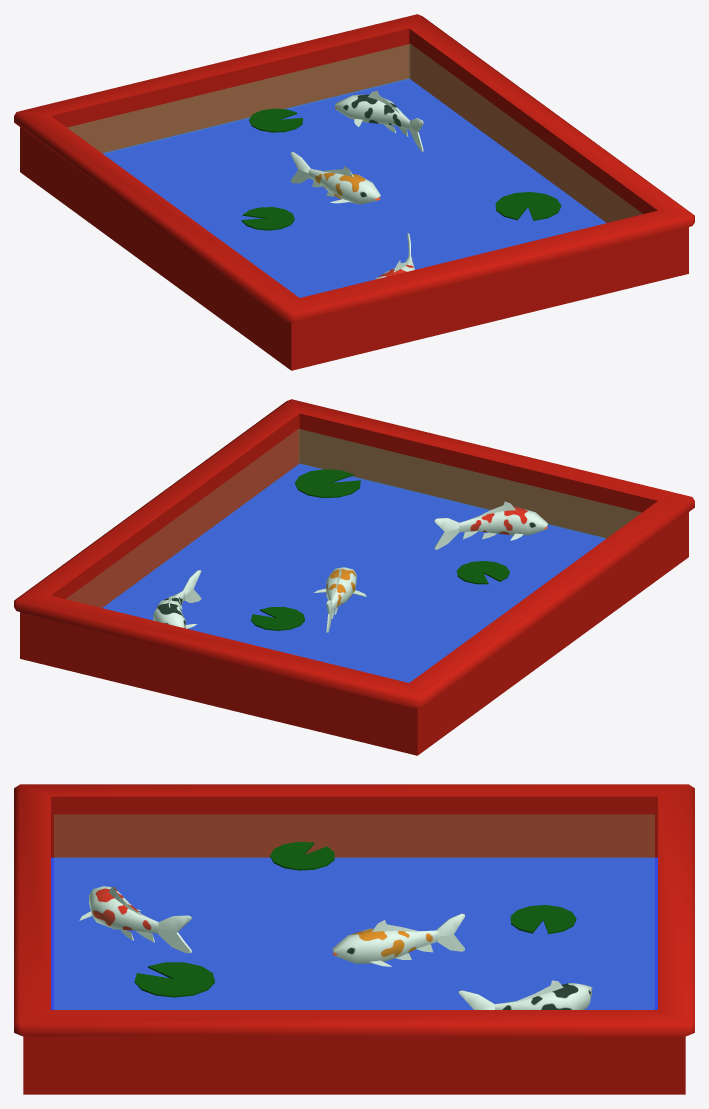
The model's file is be ca Koi.FBX.
3 views of the same model, one above another, from view 1: azimuth 30°, elevation 25°; view 2: azimuth 150°, elevation 25°; view 3: azimuth 270°, elevation 25° (orthographic). The views are drawn at different scales.
Parts seen in each view (by area): view 1: be ca Koi, Box1195, Cylinder134; view 2: be ca Koi, Box1195, Cylinder134; view 3: be ca Koi, Box1195, Cylinder134.
Part boxes in pixels (x1,y1,x2,y2): be ca Koi: (14, 14, 694, 370); Box1195: (67, 44, 641, 297); Cylinder134: (249, 108, 302, 132); be ca Koi: (14, 399, 694, 755); Box1195: (67, 429, 641, 682); Cylinder134: (251, 607, 304, 630); be ca Koi: (14, 784, 694, 1094); Box1195: (54, 815, 654, 1009); Cylinder134: (510, 905, 576, 934).
Size of the model in its own units: 11.84 by 1.65 by 14.01.
